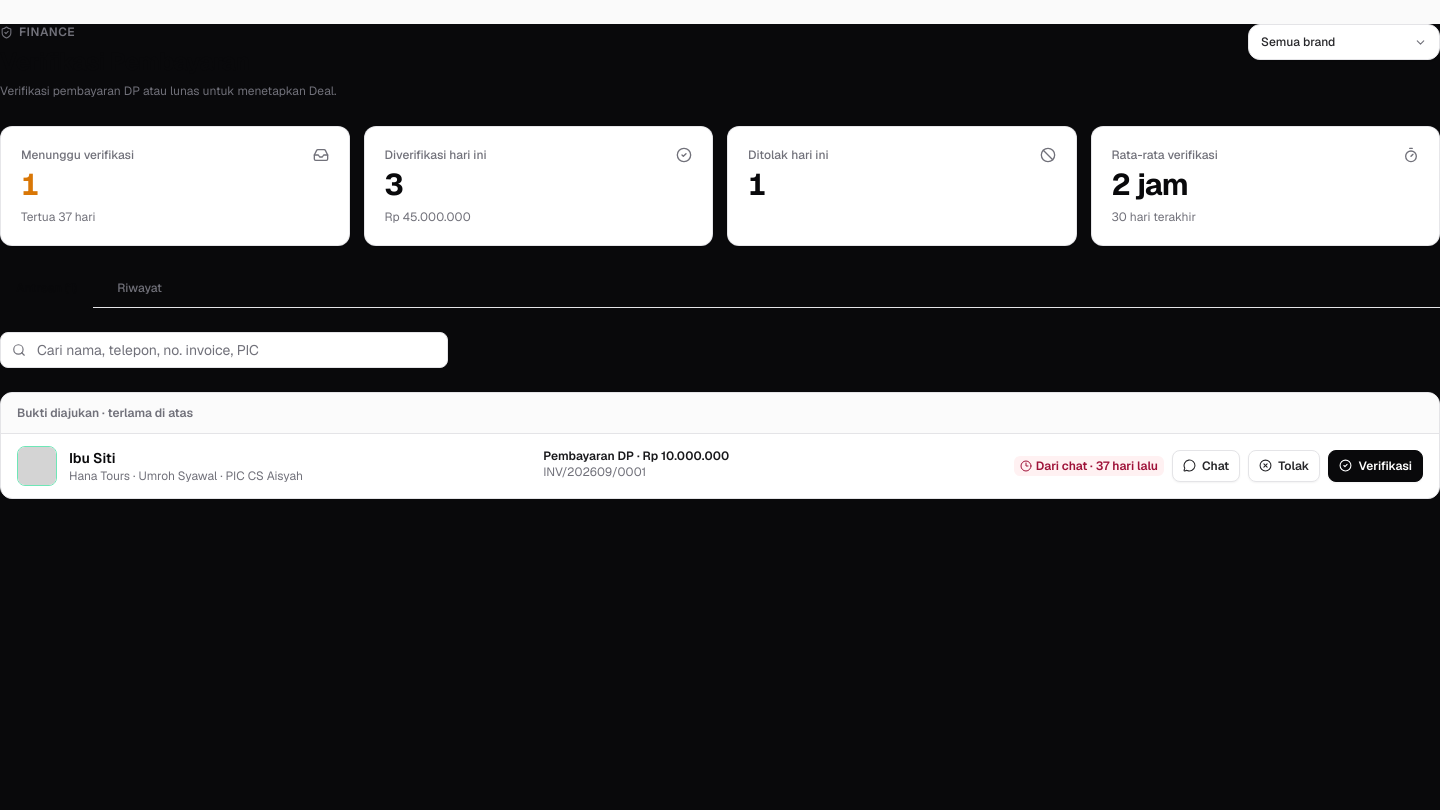
Test: Menu Verifikasi Pembayaran › Finance menolak bukti dengan alasan; tombol aktif setelah alasan diisi
This screenshot has width=1440, height=810.
Click the button with aria-label "Tolak bukti Ibu Siti". click: (1284, 466)
box: top-left (1248, 450), bottom-right (1320, 482)
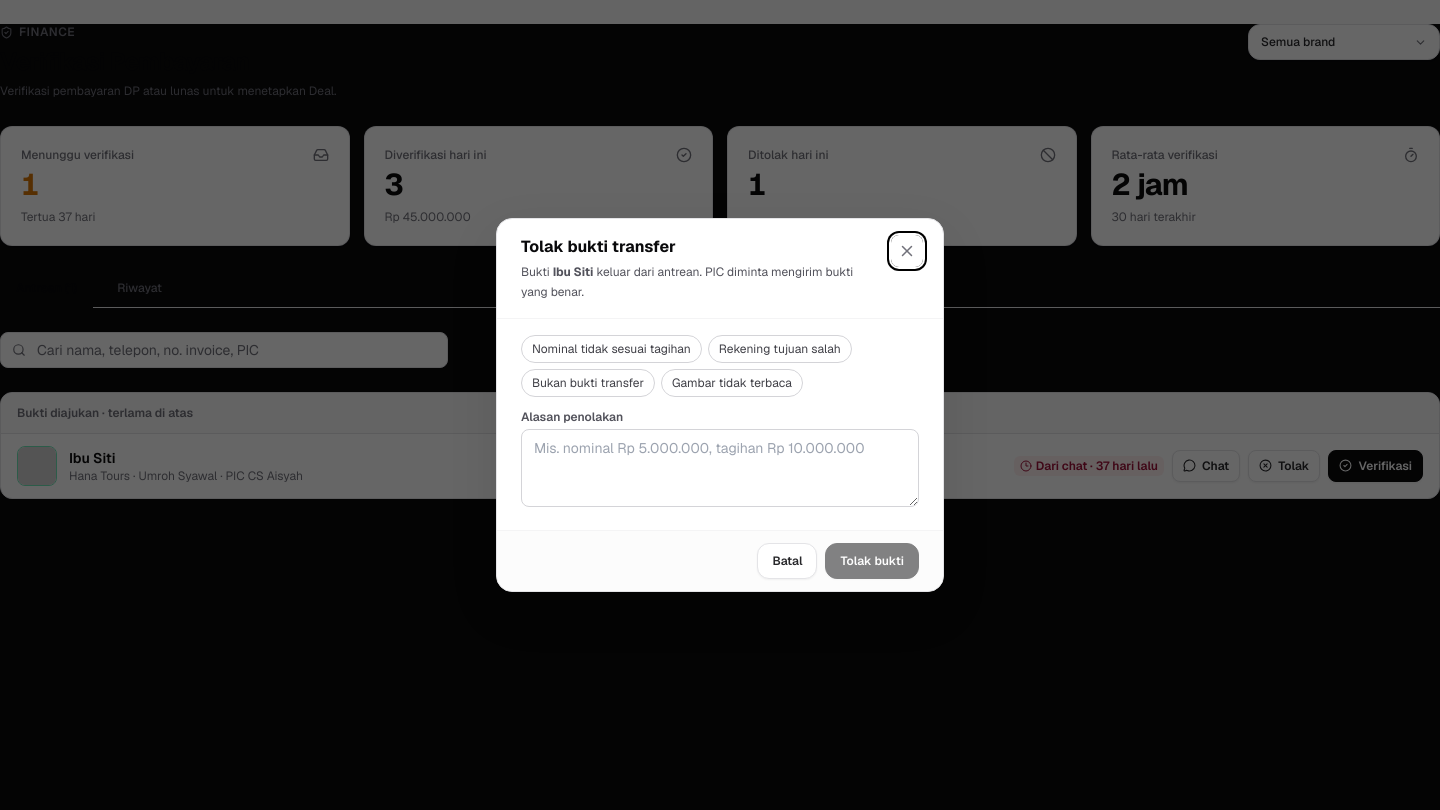
Now the dialog "Tolak bukti transfer" is shown, box top-left (496, 218), bottom-right (944, 592)
Now the button "Tolak bukti" is disabled, box top-left (826, 543), bottom-right (919, 579)
Click the button "Rekening tujuan salah". click: (780, 349)
box: top-left (708, 335), bottom-right (852, 363)
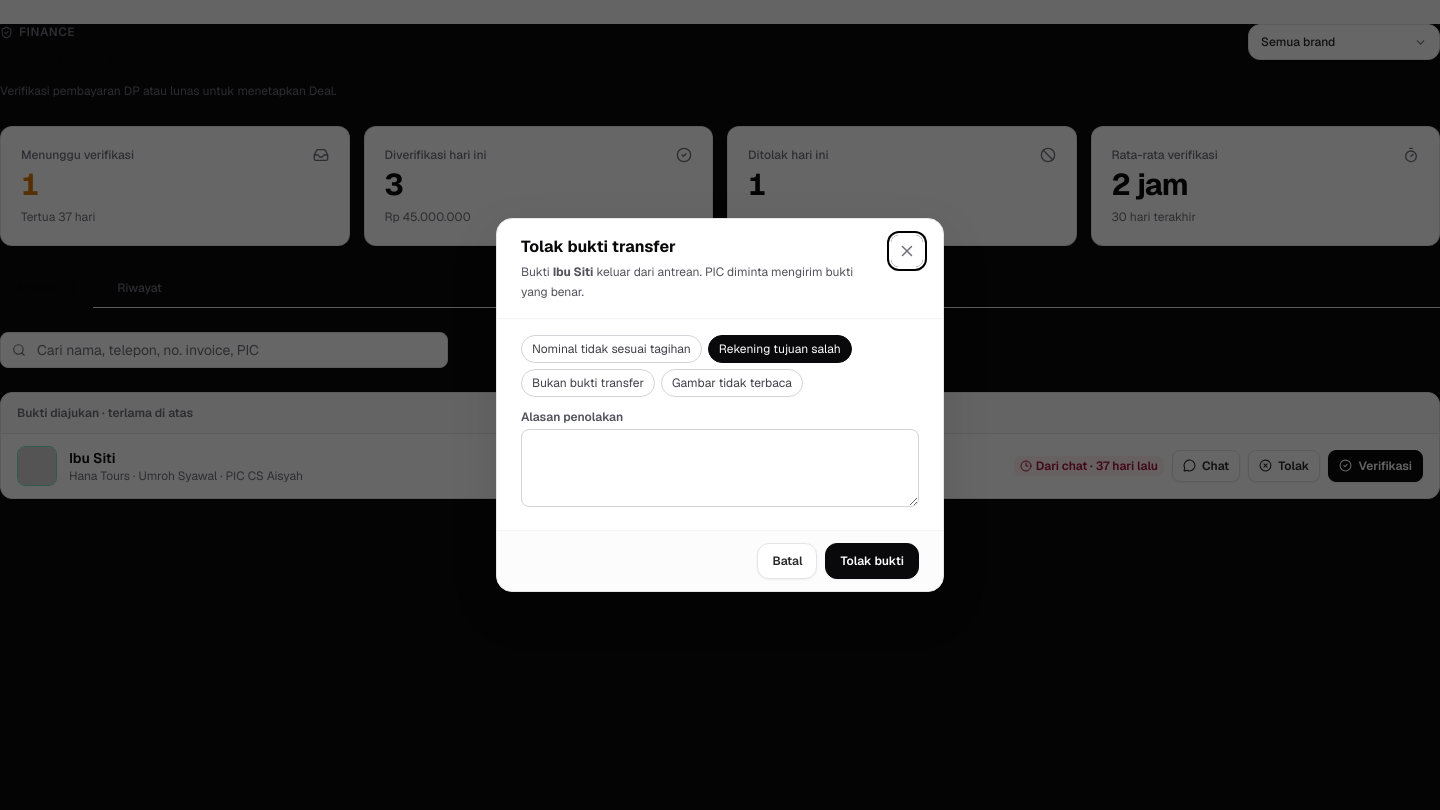
Now the button "Tolak bukti" is enabled
Click the button "Tolak bukti". click: (872, 561)
box: top-left (826, 543), bottom-right (919, 579)
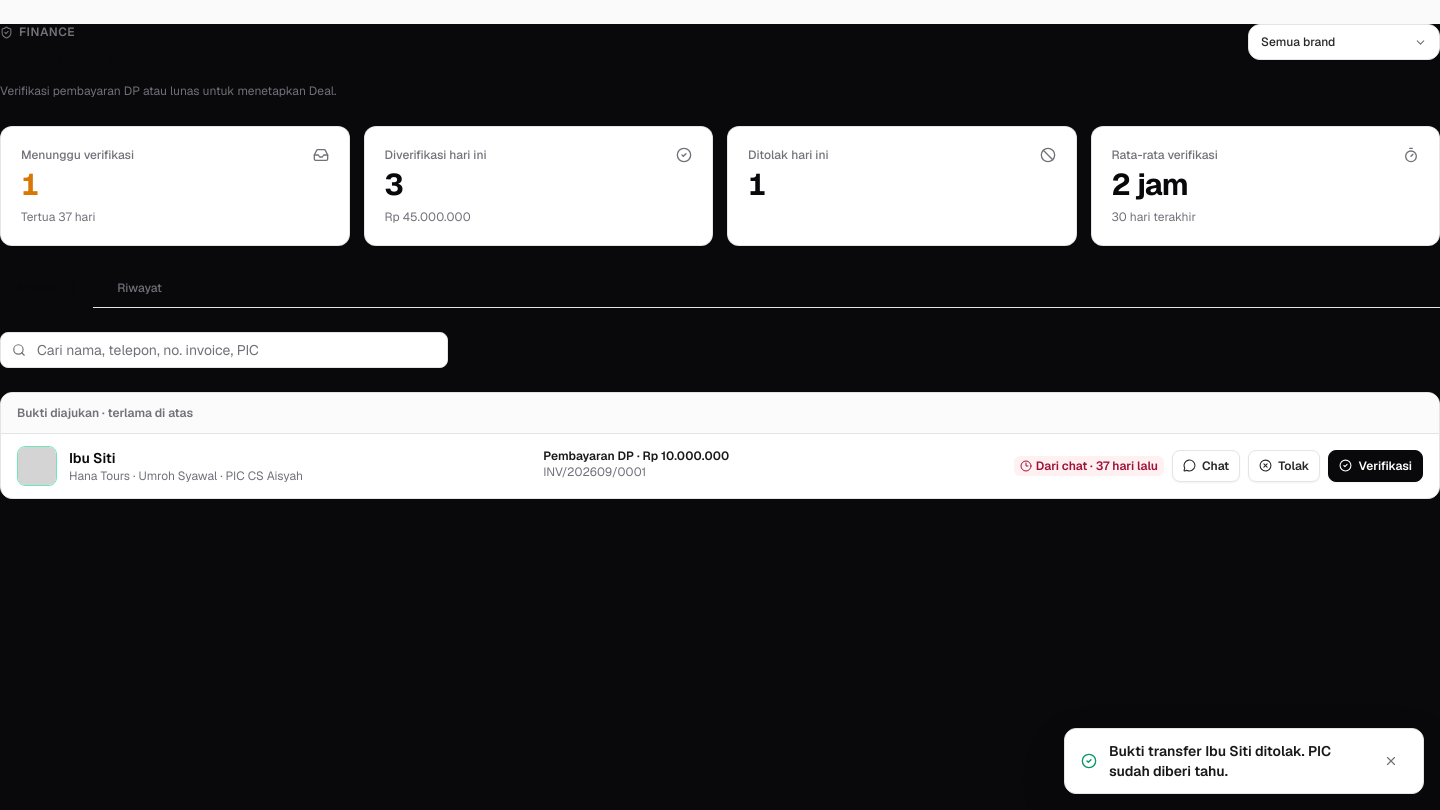
Now the text "Bukti transfer Ibu Siti ditolak. PIC sudah diberi tahu." is shown, box top-left (1109, 741), bottom-right (1363, 781)
